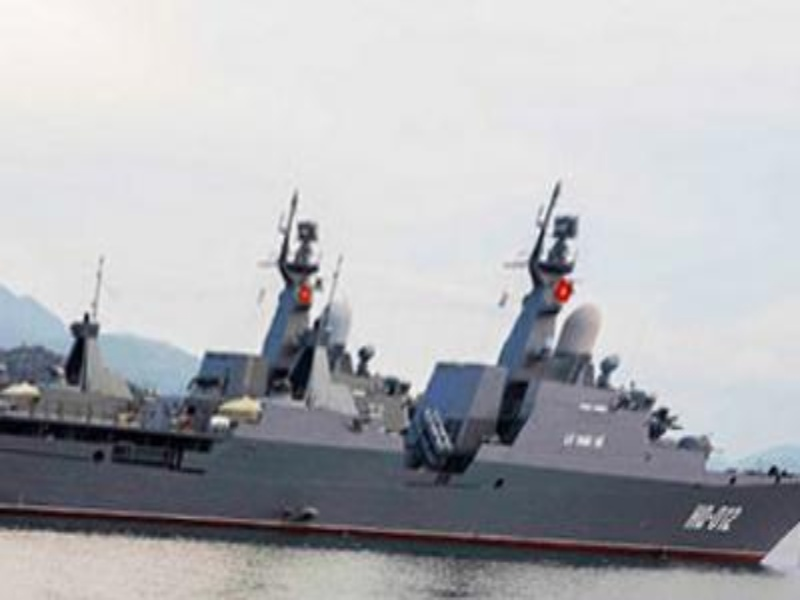cruise: (20, 261, 796, 560)
